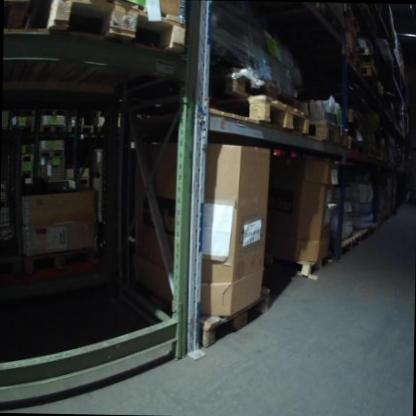pallet: (46, 0, 186, 56), (199, 287, 272, 350), (210, 87, 310, 132), (24, 248, 100, 272), (310, 116, 347, 146), (297, 248, 332, 277), (38, 124, 67, 135), (37, 149, 66, 159), (361, 64, 378, 81), (348, 135, 364, 150), (358, 46, 375, 59)
stillage: (35, 141, 71, 190)
